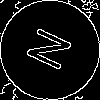N: (25, 25, 82, 77)
